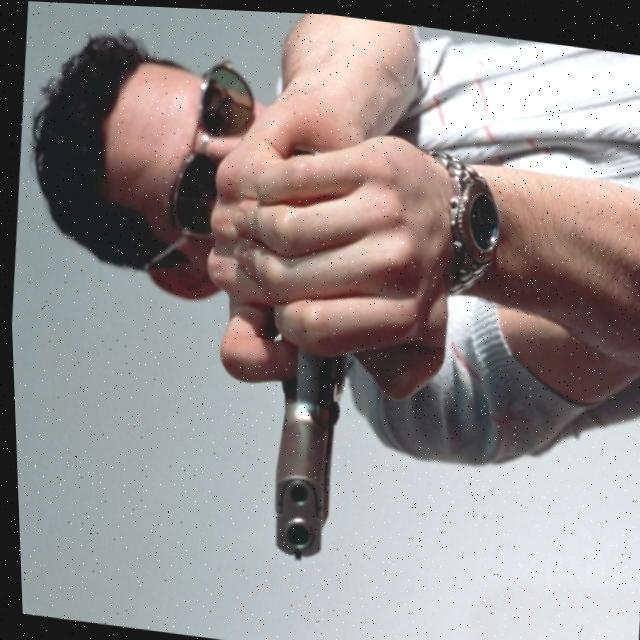pistol: (260, 339, 353, 566)
